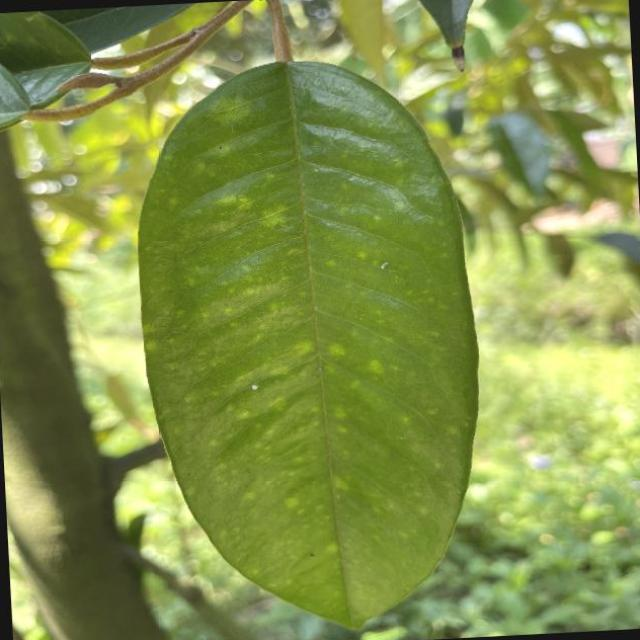Leaf Spot: (114, 38, 502, 640)
